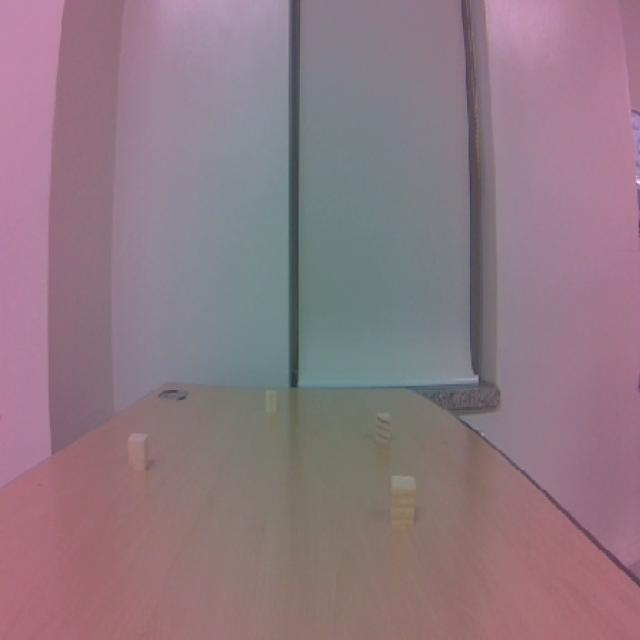obstacle: (384, 468, 428, 530), (121, 429, 159, 475)
